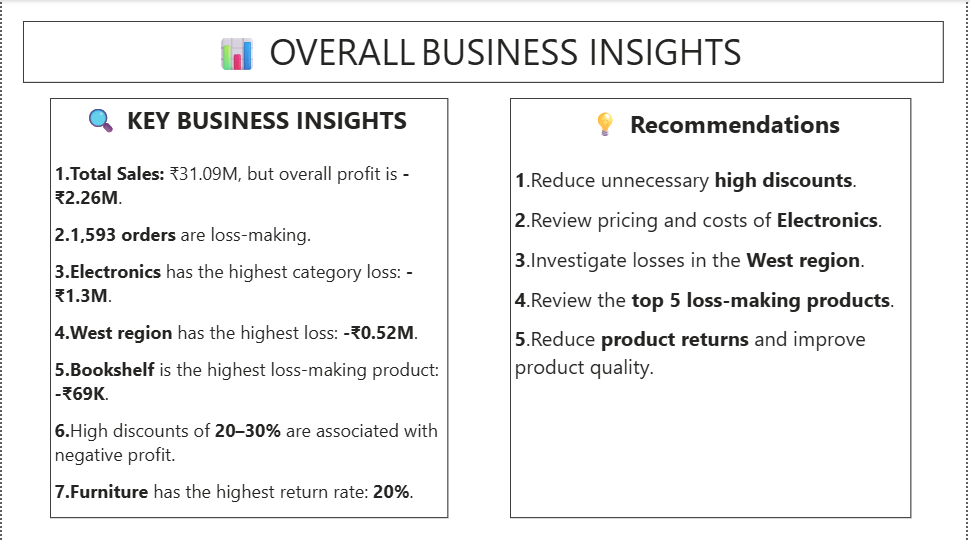

Layout of this report page (visuals, bound fields, positions):
{"tool":"powerbi","page":{"name":"insights","canvas":[1280,720],"ordinal":1},"visuals":[{"type":"textbox","box":[27.9,27.9,1223.5,82.4],"z":0},{"type":"textbox","box":[63.8,130.2,528.7,557.9],"z":1},{"type":"textbox","box":[674.8,130.2,532.7,557.9],"z":2}]}

Visuals, with their boxes in screenshot pixels (x1, y1, x2, y2), scaled from the page's 1280x720 canvas onto the 970x542 screenshot:
textbox: x1=21 y1=21 x2=948 y2=83
textbox: x1=48 y1=98 x2=449 y2=518
textbox: x1=511 y1=98 x2=915 y2=518
